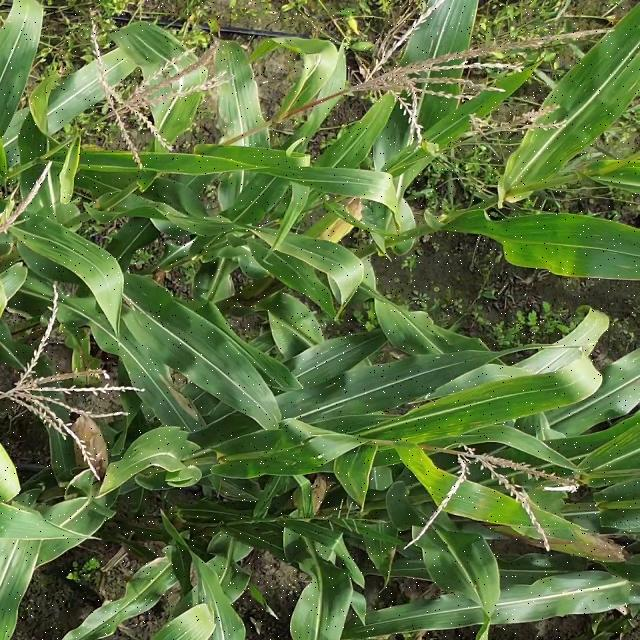gray-leaf-spot: (386, 440, 537, 540), (514, 73, 625, 167)
northern-leaf-blight: (273, 193, 381, 264)
southern-leaf-blight: (374, 371, 570, 446), (204, 49, 282, 192)
